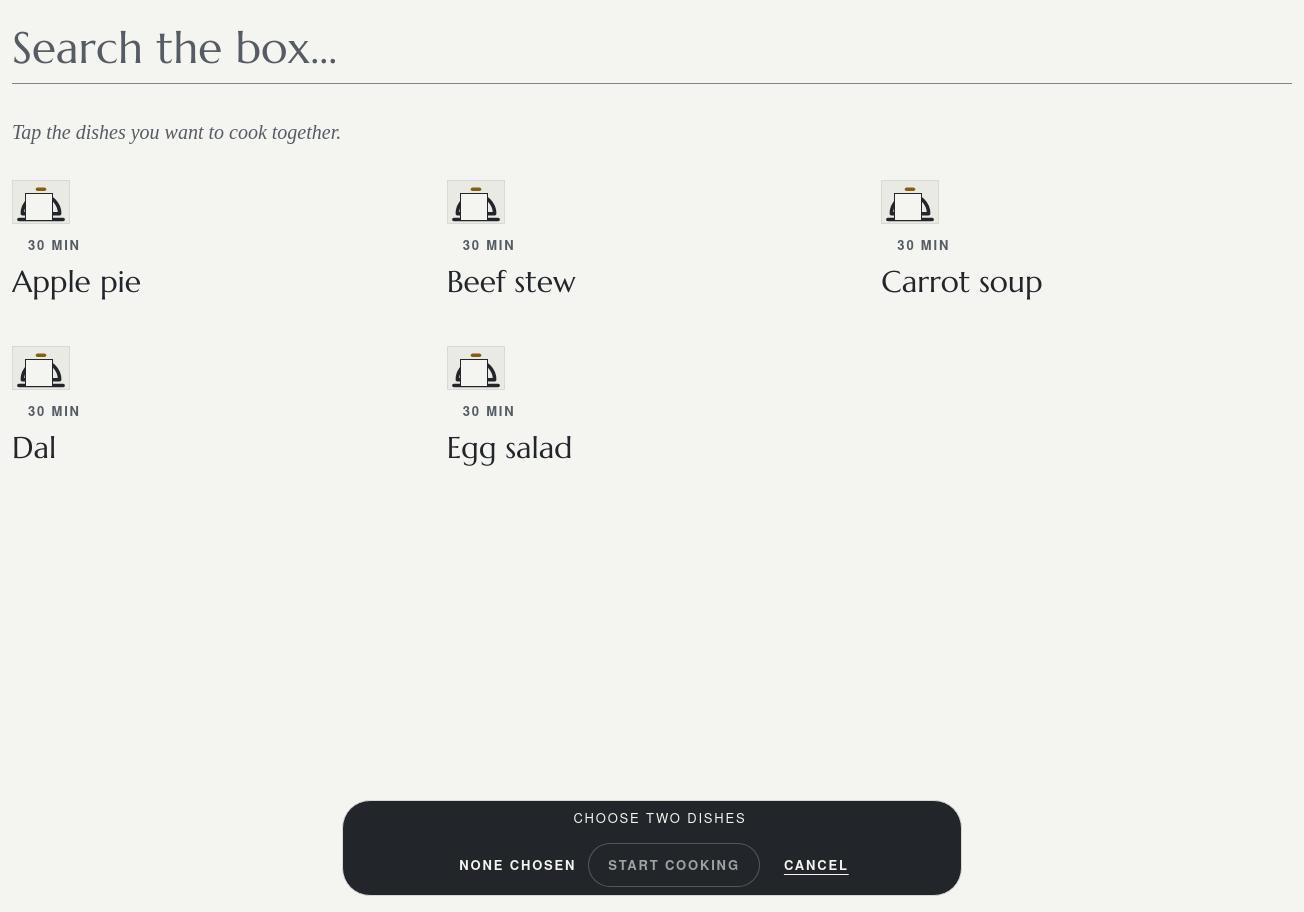
Scenario: DishPicker search › waits for a pause in typing, and shows the first page again when the box is cleared
The image size is (1304, 912).
Step 1. Type "p" into the search field named "Search recipes" → [652, 48], box [12,12,1292,84]
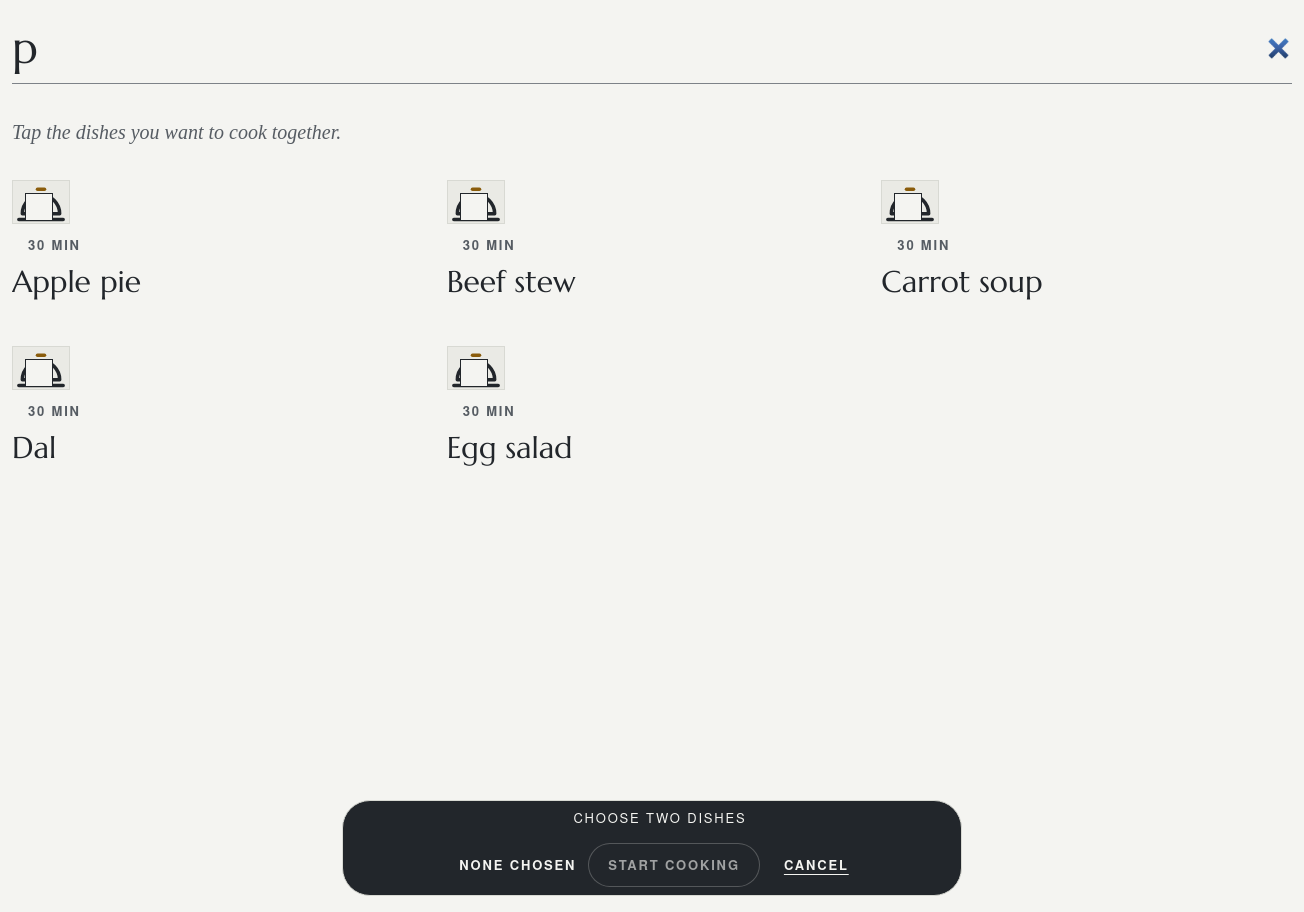
Step 2. Replace the text in the search field named "Search recipes" with "pi" → [652, 48], box [12,12,1292,84]
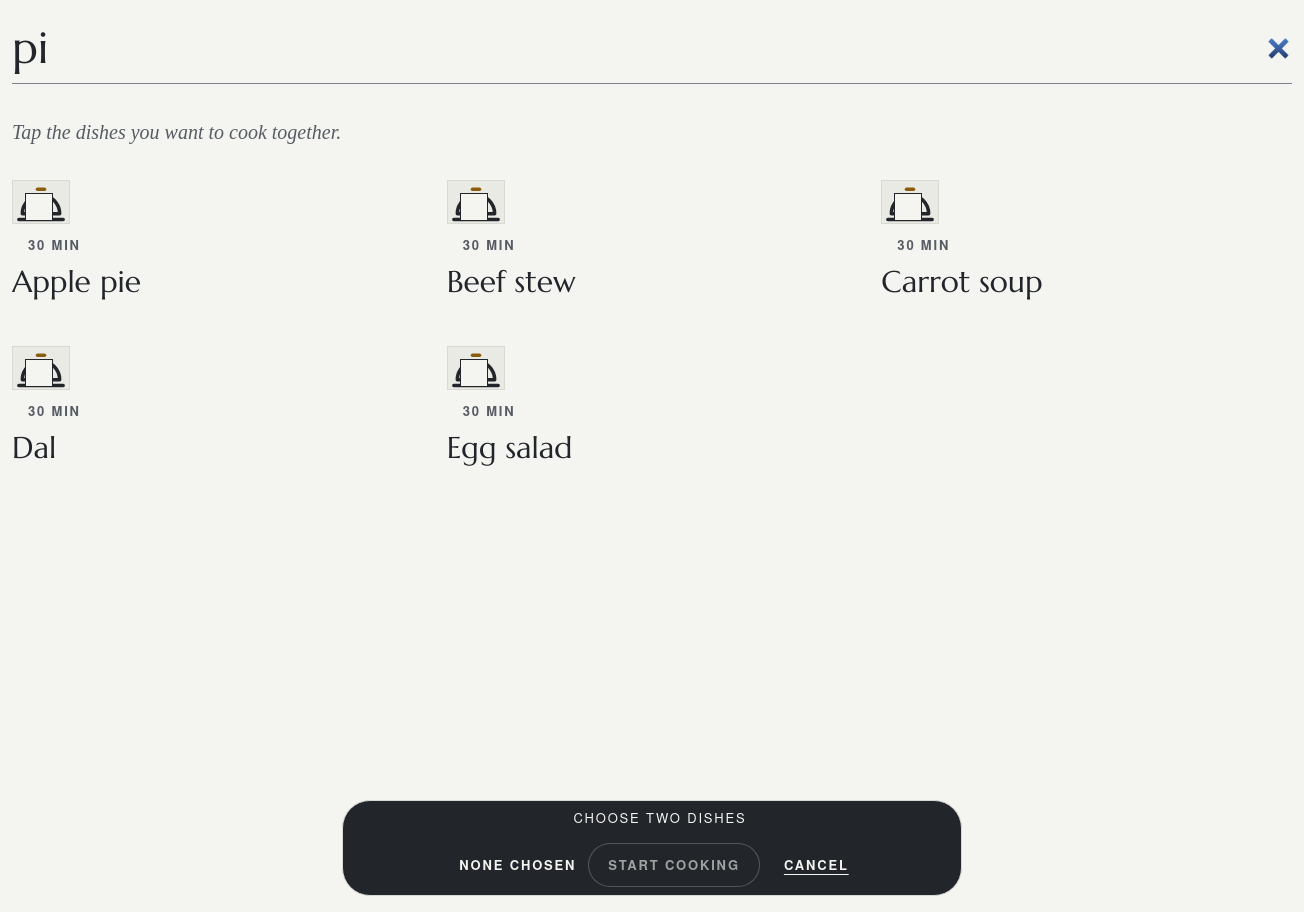
Step 3. Replace the text in the search field named "Search recipes" with "pie" → [652, 48], box [12,12,1292,84]
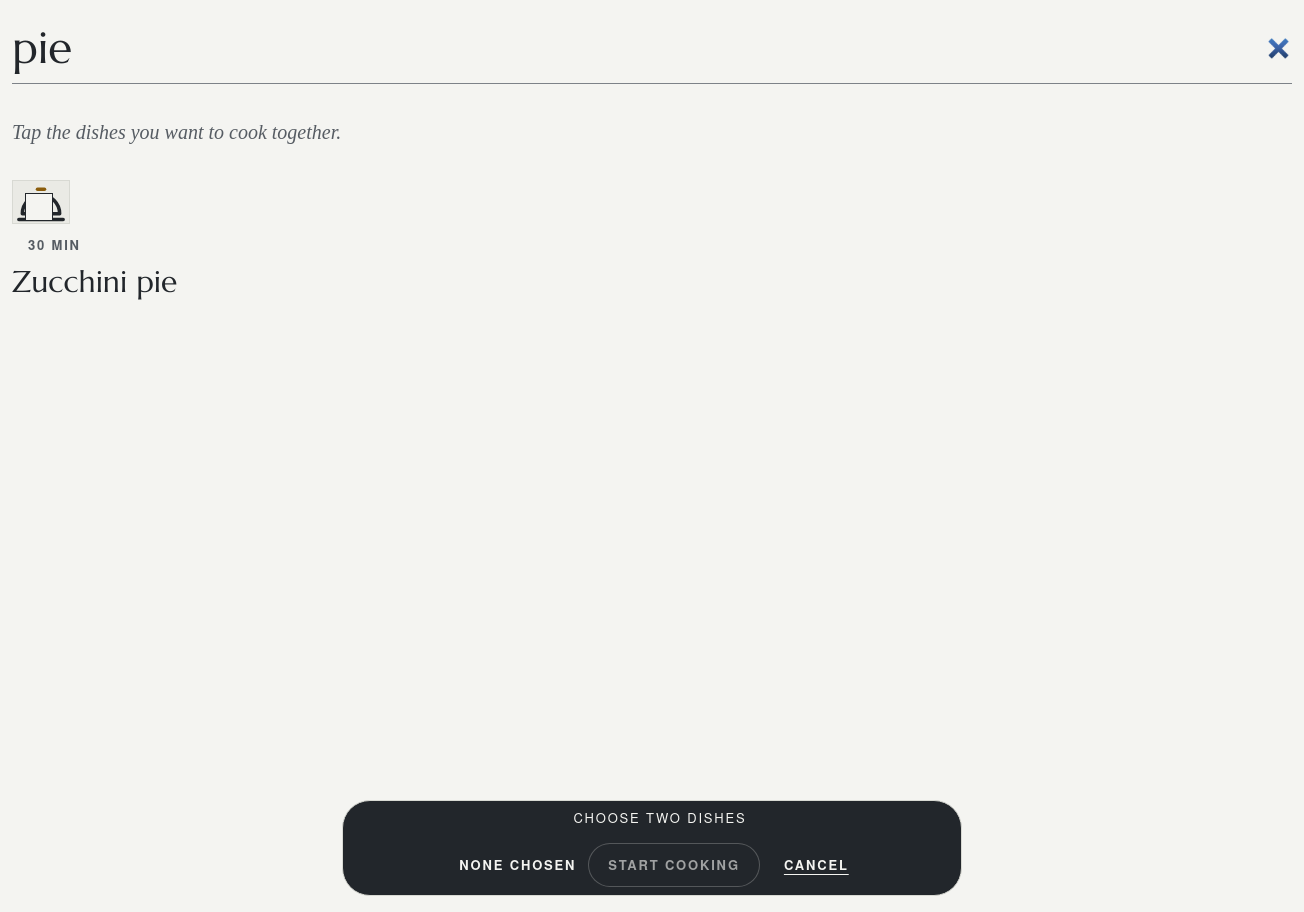
Check: the button "30 min Zucchini pie" is shown, box [12,180,423,298]
Step 4. Clear the search field named "Search recipes" → [652, 48], box [12,12,1292,84]
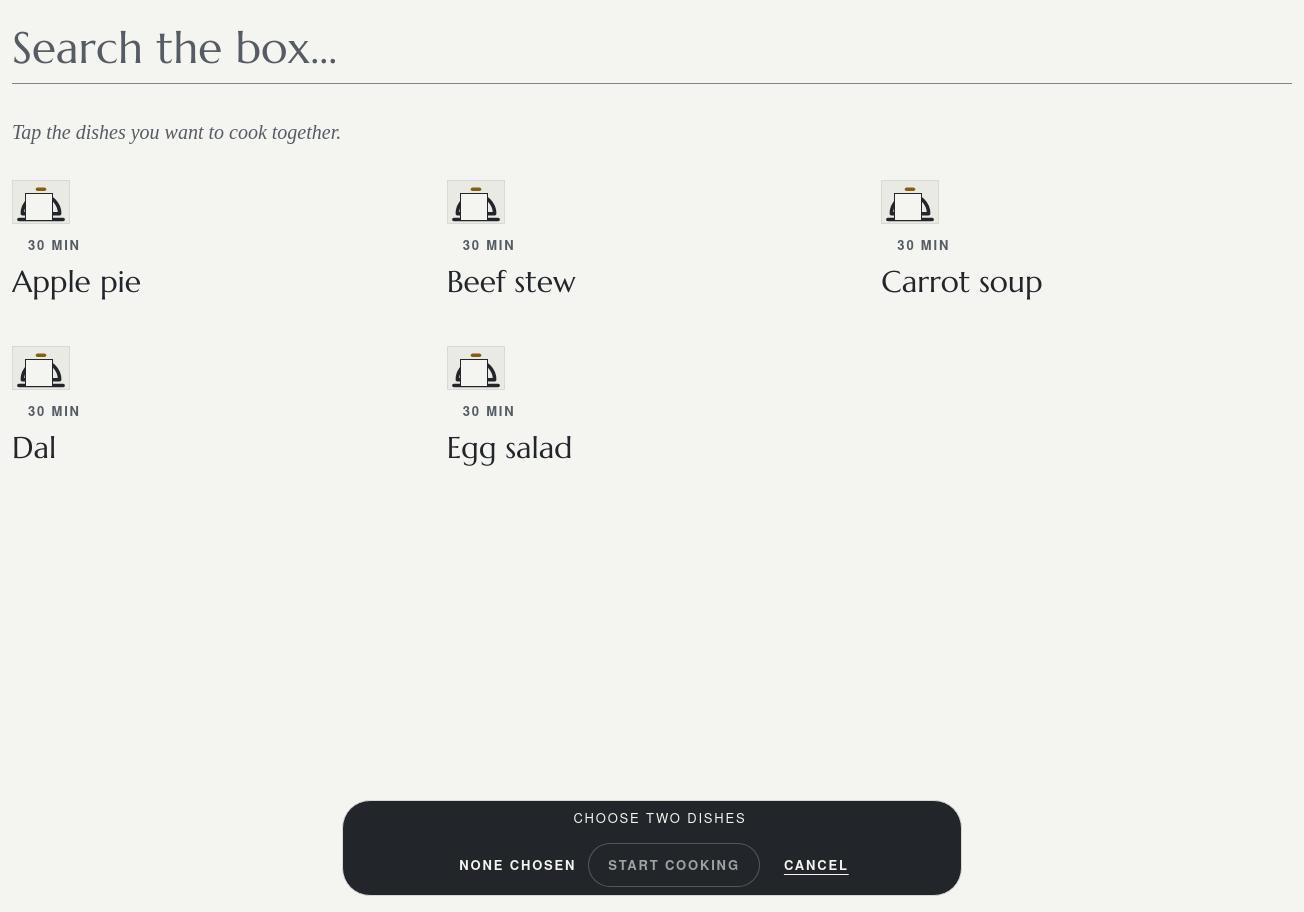
Check: the button "30 min Apple pie" is shown, box [12,180,423,298]
Check: the button "Zucchini pie" is gone
